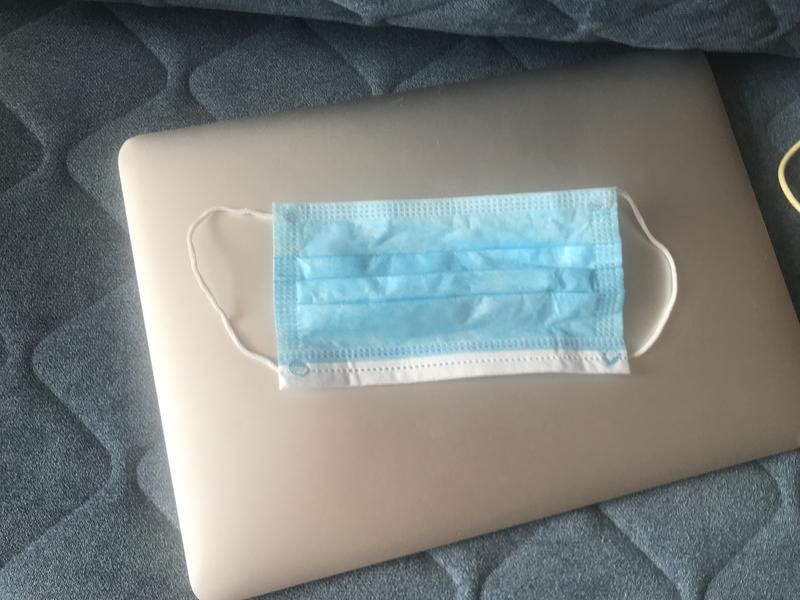medical_mask: (186, 187, 677, 393)
